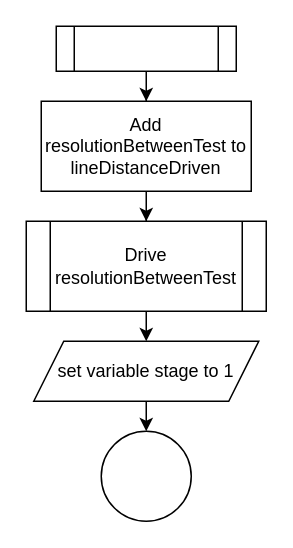
This 293x548 diagram has some shape labels left out. Each missing label, with the box of its shape:
nextPoint: (55, 25, 236, 71)
Return: (100, 430, 191, 521)
